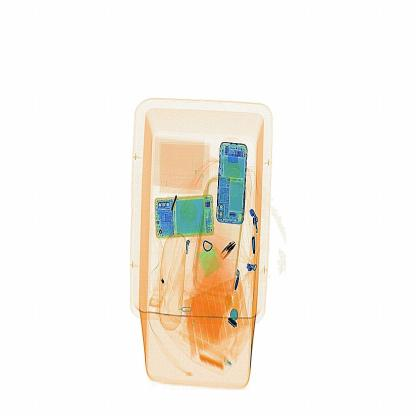wrench: (213, 229, 242, 266)
